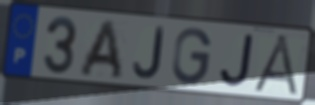3: (41, 14, 78, 76)
A: (250, 33, 303, 98), (76, 18, 125, 82)
G: (170, 26, 214, 86)
J: (218, 33, 257, 89), (131, 25, 166, 81)
